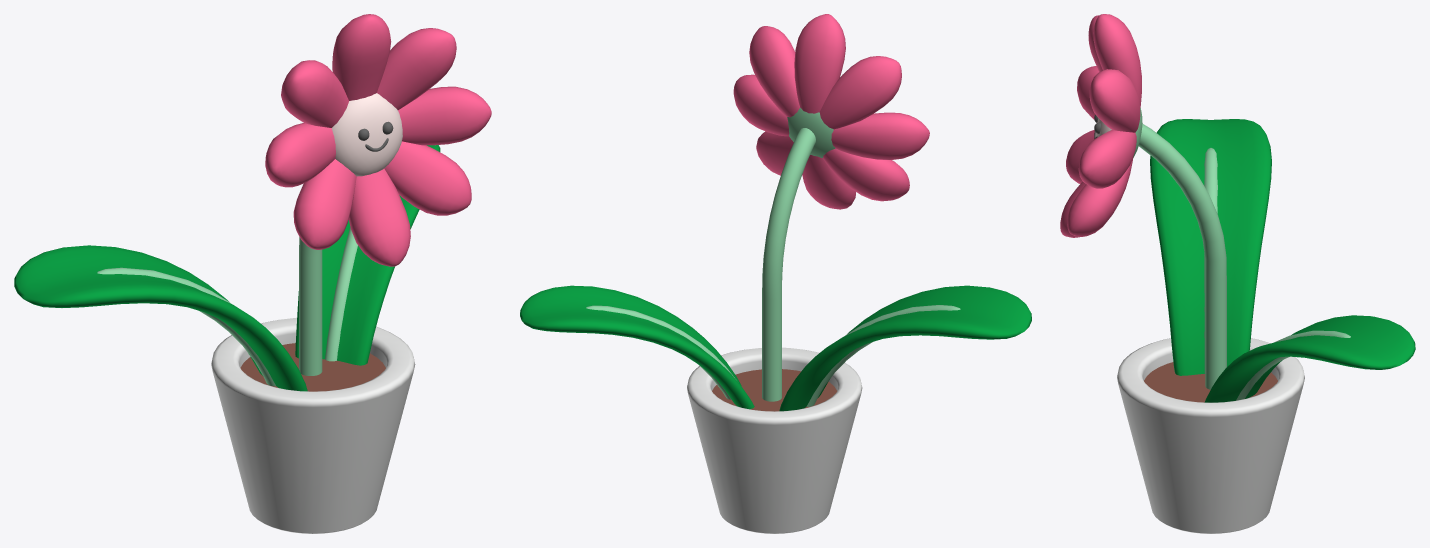
Rendered from City_15_Flower_1.glb.
3 renders of one model, left to right at view 1: azimuth 30°, elevation 25°; view 2: azimuth 150°, elevation 25°; view 3: azimuth 270°, elevation 25°, orthographic. The views are drawn at different scales.
Visible parts, largest first — view 1: City_15_Flower_1; view 2: City_15_Flower_1; view 3: City_15_Flower_1.
Part boxes in pixels (x1,y1,x2,y2): City_15_Flower_1: (14,14,491,533); City_15_Flower_1: (520,14,1031,533); City_15_Flower_1: (1060,14,1415,533).
Size of the model in its own units: 1.62 by 1.67 by 1.09.
1 material, 1 textured.
